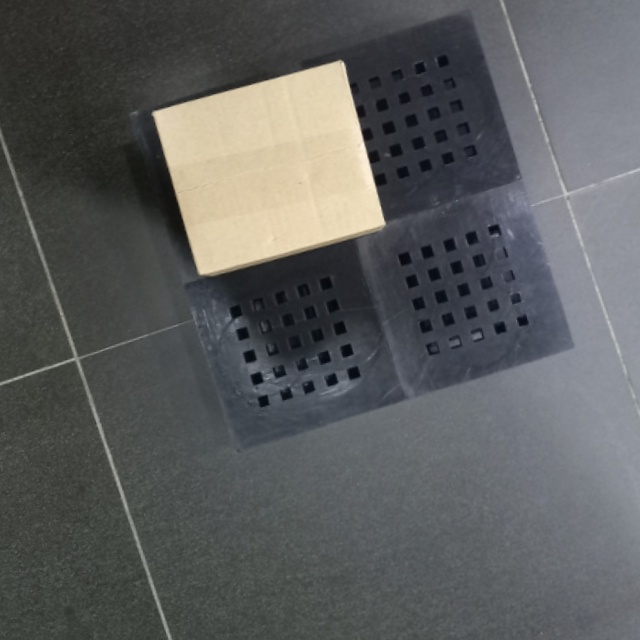box: (145, 54, 388, 284)
pallet: (138, 2, 587, 456)
